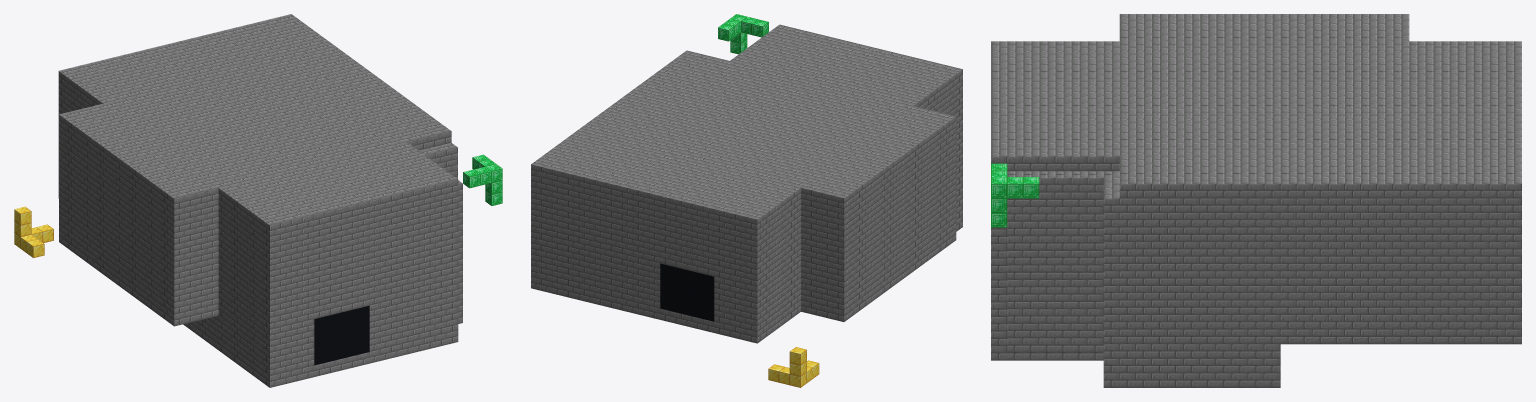
Rendered from 2 Big C.obj.
The picture shows the model from 3 angles, left to right: view 1: azimuth 30°, elevation 25°; view 2: azimuth 150°, elevation 25°; view 3: azimuth 270°, elevation 25°; orthographic projection. The views are drawn at different scales.
Parts seen in each view (by area): view 1: Stone_Bricks, Black_Concrete, Block_of_Emerald, Block_of_Gold; view 2: Stone_Bricks, Black_Concrete, Block_of_Gold, Block_of_Emerald; view 3: Stone_Bricks, Block_of_Emerald.
Part boxes in pixels (<box>): Stone_Bricks: <box>58,14,462,387</box>; Black_Concrete: <box>314,305,369,365</box>; Block_of_Emerald: <box>463,154,502,205</box>; Block_of_Gold: <box>14,206,53,257</box>; Stone_Bricks: <box>531,24,962,343</box>; Black_Concrete: <box>660,263,714,321</box>; Block_of_Gold: <box>768,347,819,387</box>; Block_of_Emerald: <box>718,14,768,54</box>; Stone_Bricks: <box>991,14,1521,387</box>; Block_of_Emerald: <box>991,163,1039,227</box>.
Bounding box in the file's own units: 25 × 14 × 33.
Materials: 9 (9 with a texture image).
